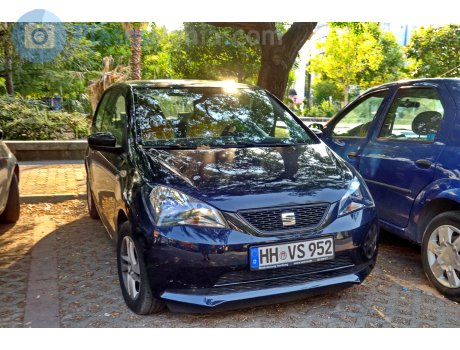License Plates: (261, 249, 334, 259)
